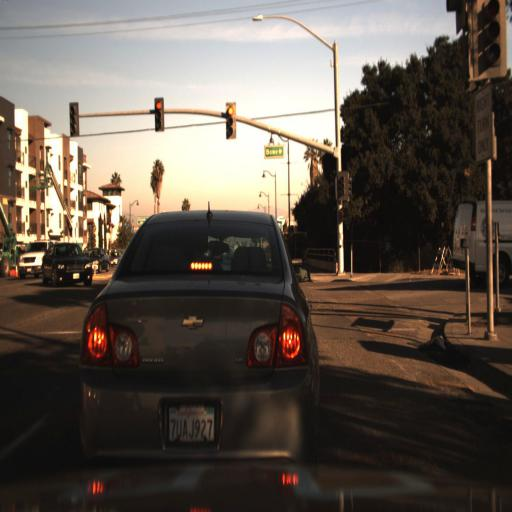car: (66, 200, 322, 508), (451, 194, 512, 289), (35, 232, 91, 289), (12, 234, 58, 287), (16, 231, 43, 284)
trafficLight: (468, 0, 510, 94), (224, 99, 236, 142), (67, 102, 79, 136)
trafficLight-Red: (336, 167, 350, 203), (152, 95, 165, 132)
